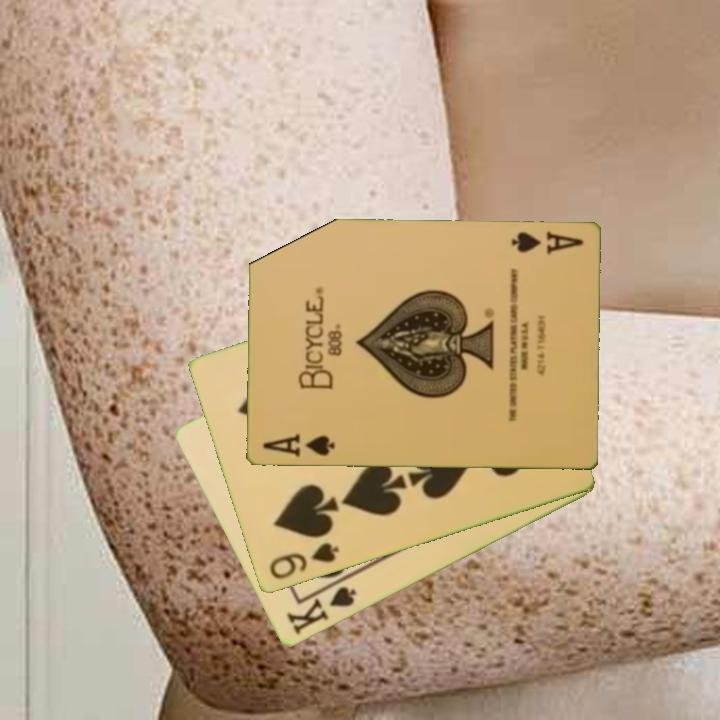9s: (265, 539, 342, 583)
As: (259, 431, 337, 461), (508, 228, 586, 258)
Ks: (283, 575, 360, 639)
